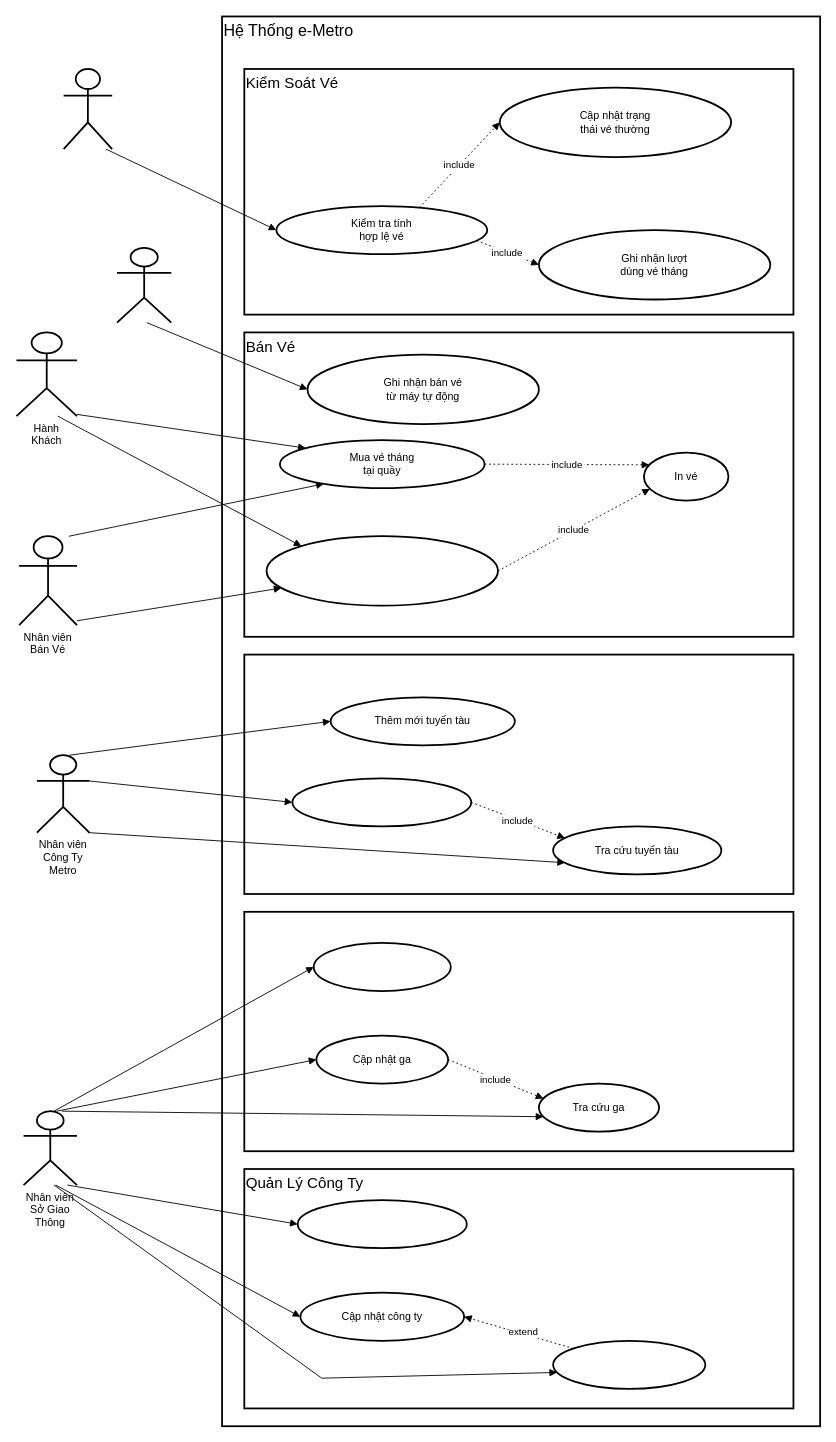
Image size: 836x1442. Some labels were removed from this diagram. Here are the shapes that lost their labels. From the top down, the box of each, then its label:
(62, 68, 113, 150): Cổng Soát Vé Tự Động
(116, 247, 172, 323): Máy Bán Vé Tự Động
(265, 535, 498, 606): Mua vé tại quầy (vé thường)
(243, 653, 794, 894): Quản Lý Tuyến Tàu
(291, 777, 472, 827): Cập nhật tuyến tàu
(312, 942, 451, 991): Thêm mới ga
(243, 910, 794, 1152): Quản Lý Ga
(296, 1199, 467, 1249): Thêm mới công ty
(552, 1339, 706, 1389): Tra cứu công ty
